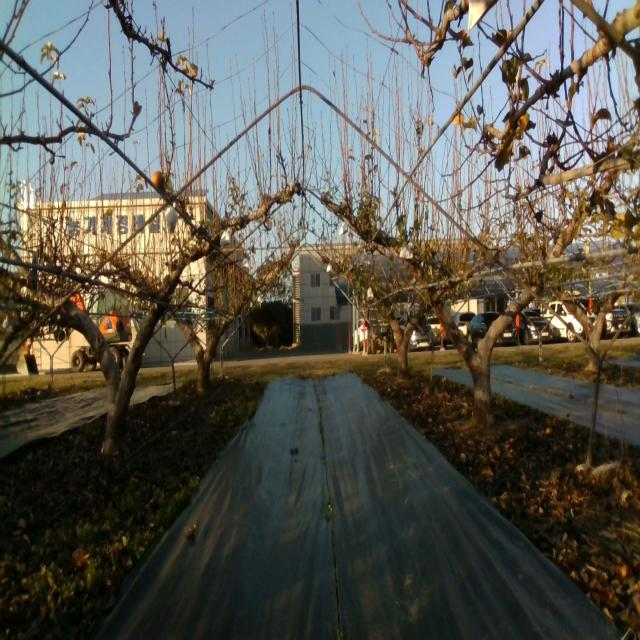pearbags: (164, 202, 177, 234), (399, 242, 413, 261), (220, 228, 232, 249)
